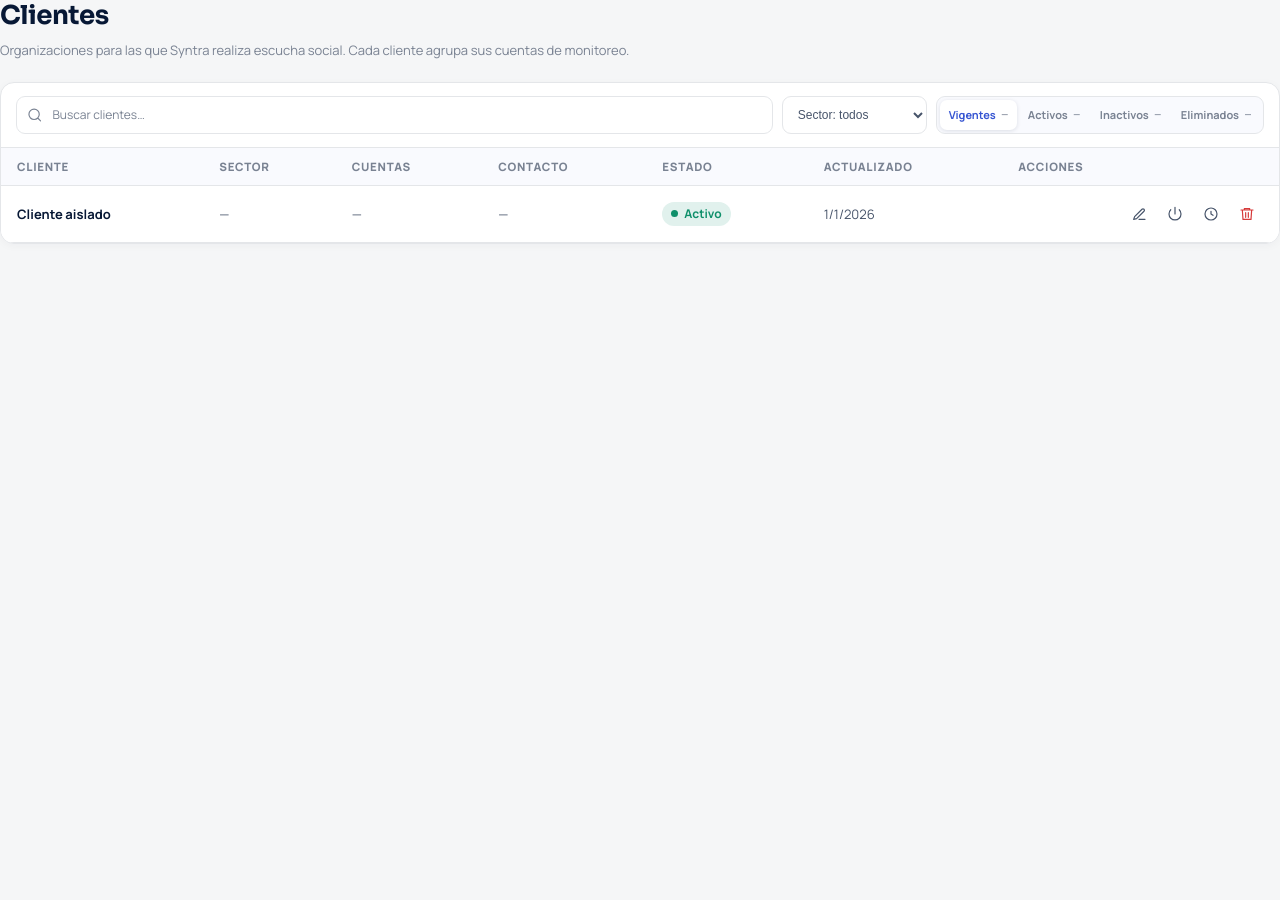
Scenario: Tabla de Clientes › las acciones no abren el detalle y envían el cambio de estado al endpoint real
Expected: the row named "Ver detalle de Cliente aislado" is shown, [1,186,1279,243]
Click the button named "Inactivar Cliente aislado" at (1175, 214), box [1159,198,1191,230]
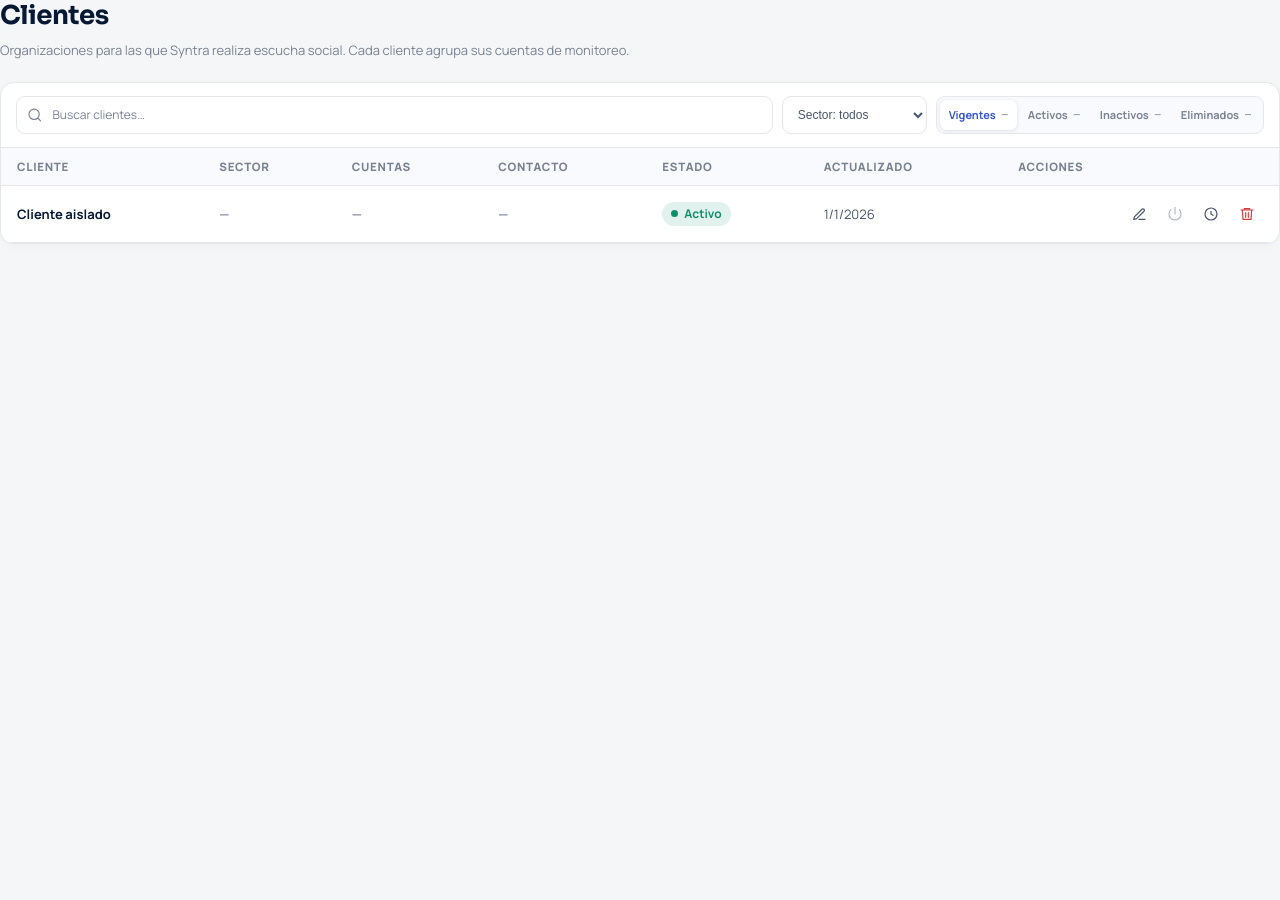
Click the button named "Eliminar Cliente aislado" at (1247, 214), box [1231,198,1263,230]
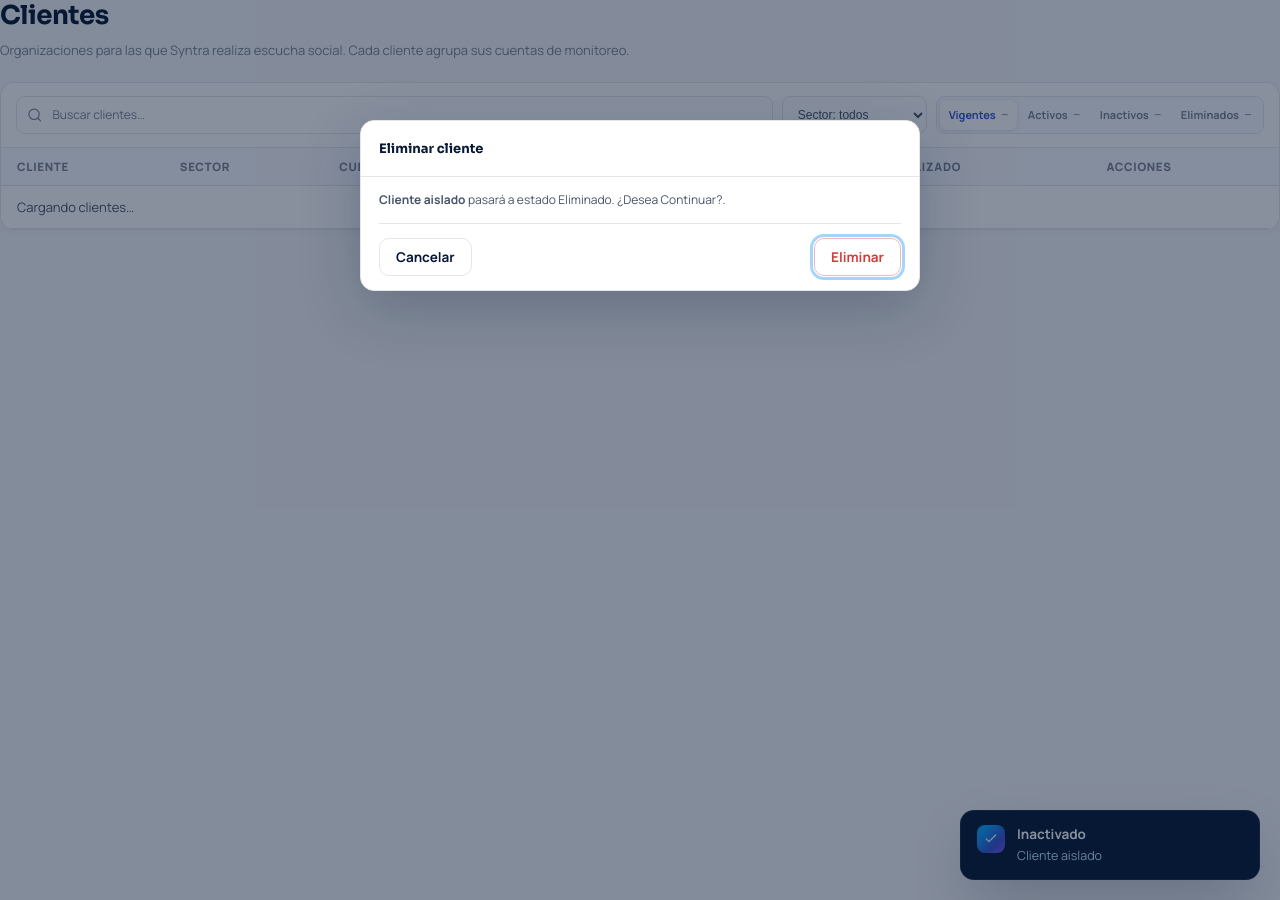
Expected: the dialog "Eliminar cliente" is shown, [360,120,920,291]
Click the button "Cancelar" at (425, 257), box [379,238,472,276]
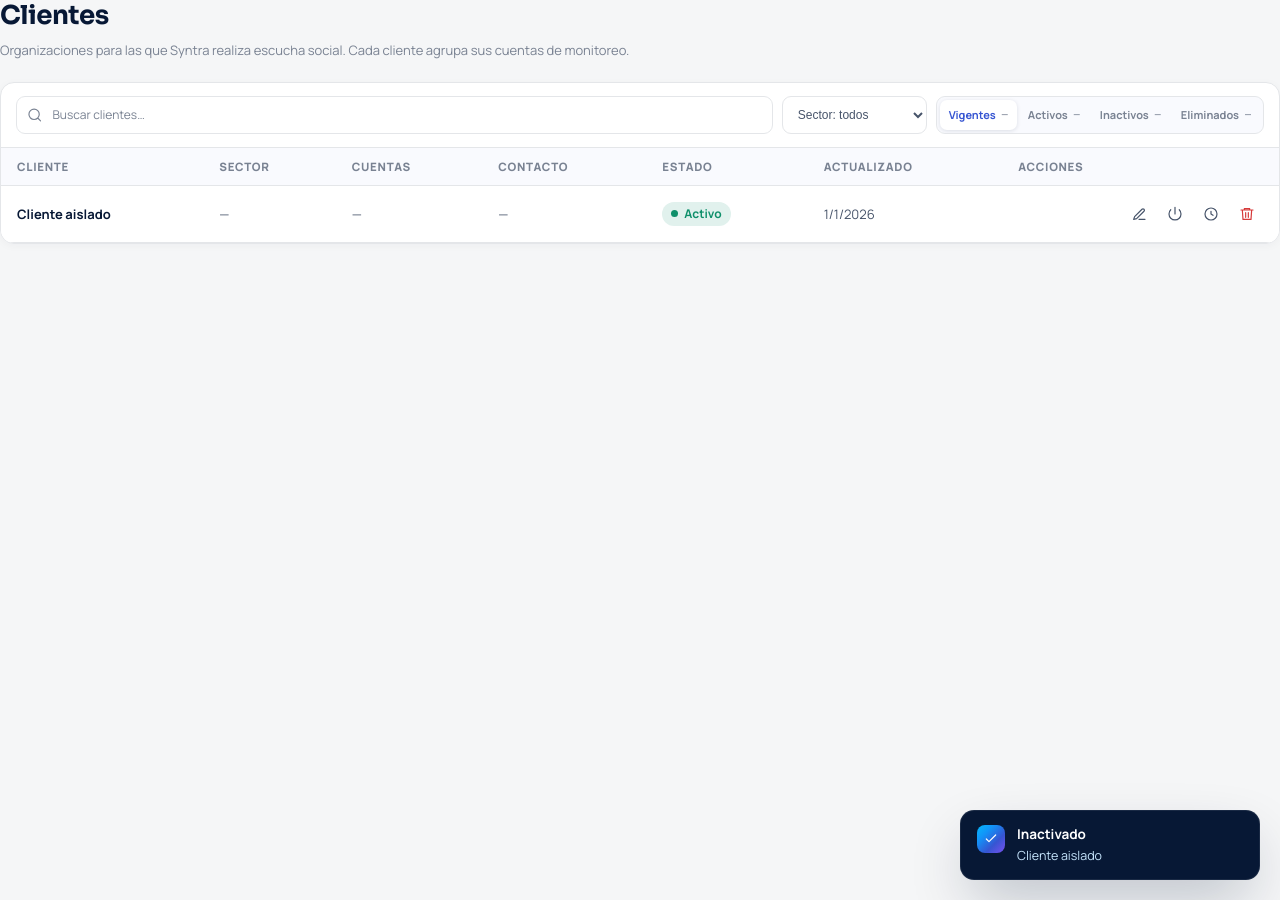
Click the link named "Editar Cliente aislado" at (1139, 214), box [1131,206,1147,222]
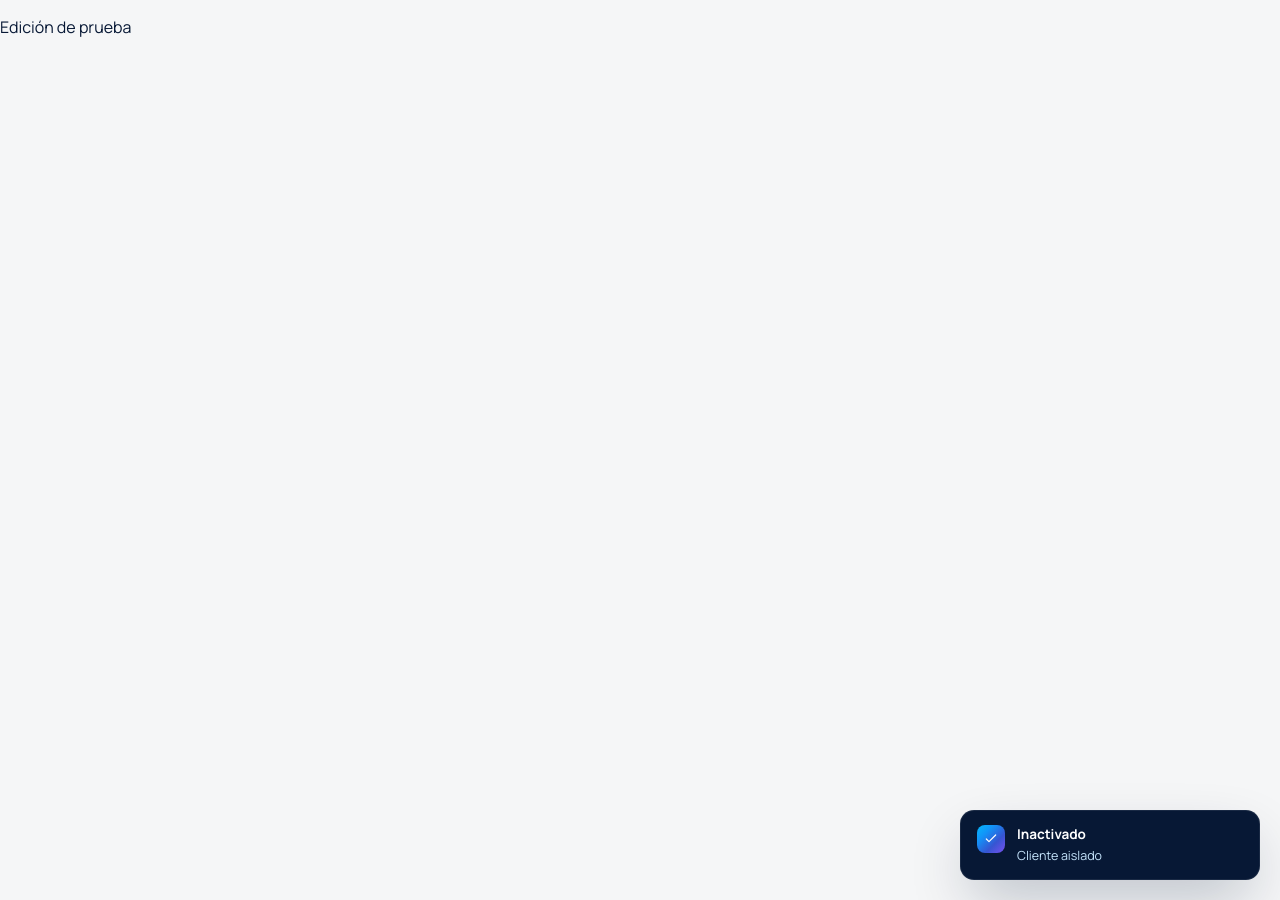
Expected: the text "Edición de prueba" is shown, [0,16,131,38]
